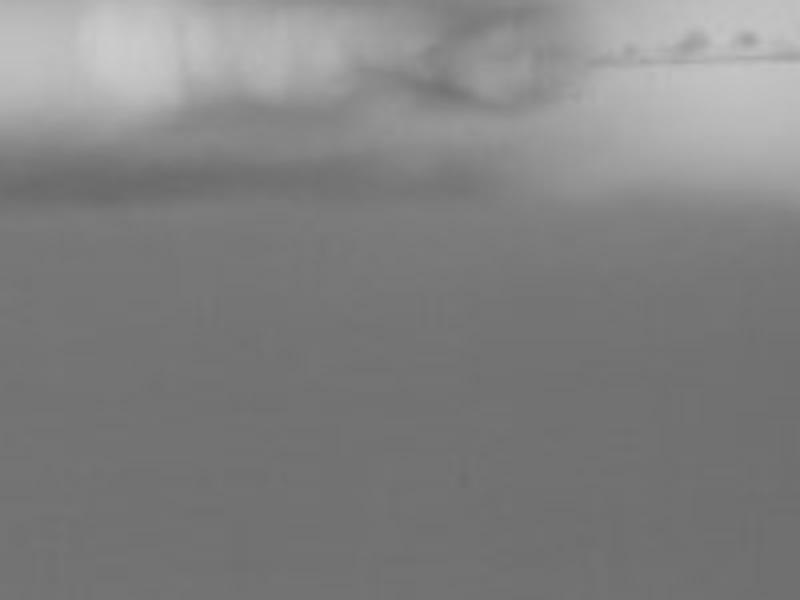defect: (676, 28, 708, 55), (736, 28, 763, 52), (623, 41, 637, 57)
